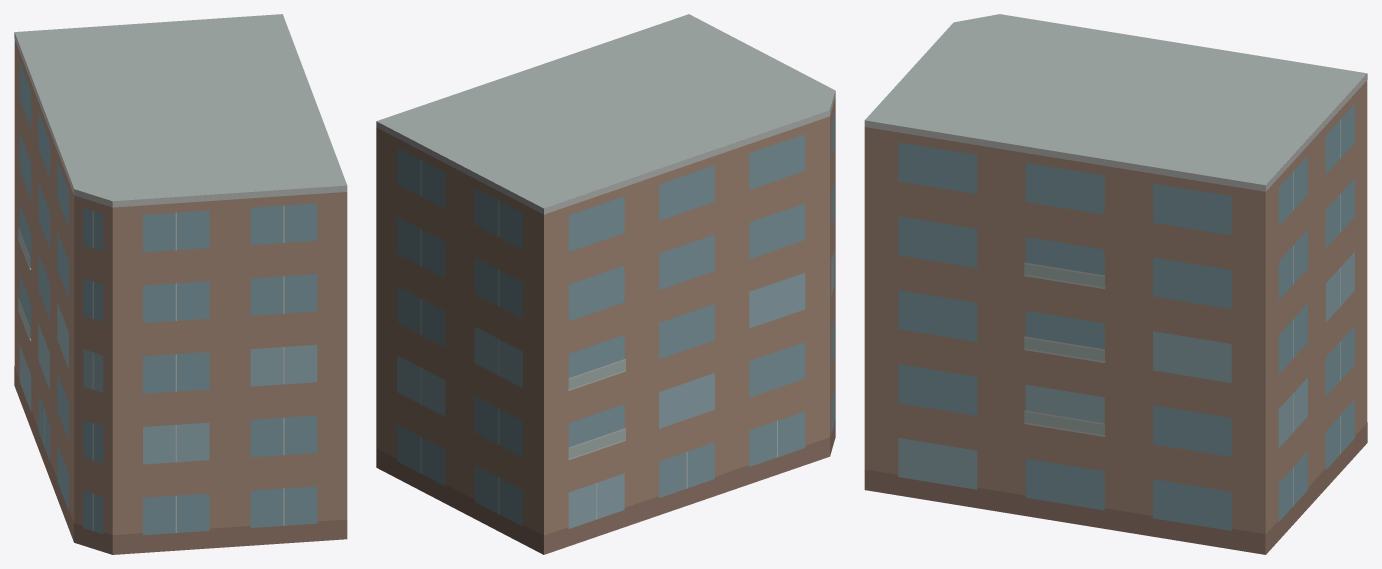
Rendered from survey-upis-32626393.glb.
3 views of the same model, side by side, from view 1: azimuth 30°, elevation 25°; view 2: azimuth 150°, elevation 25°; view 3: azimuth 270°, elevation 25° (orthographic). The views are drawn at different scales.
Parts seen in each view (by area): view 1: survey-upis-32626393.tmp; view 2: survey-upis-32626393.tmp; view 3: survey-upis-32626393.tmp.
Boxes of the visible parts, bbox=[...] form: survey-upis-32626393.tmp: bbox=[14, 14, 347, 554]; survey-upis-32626393.tmp: bbox=[376, 14, 835, 554]; survey-upis-32626393.tmp: bbox=[864, 14, 1367, 554].
Bounding box in the file's own units: 13.68 × 13.75 × 16.97.
